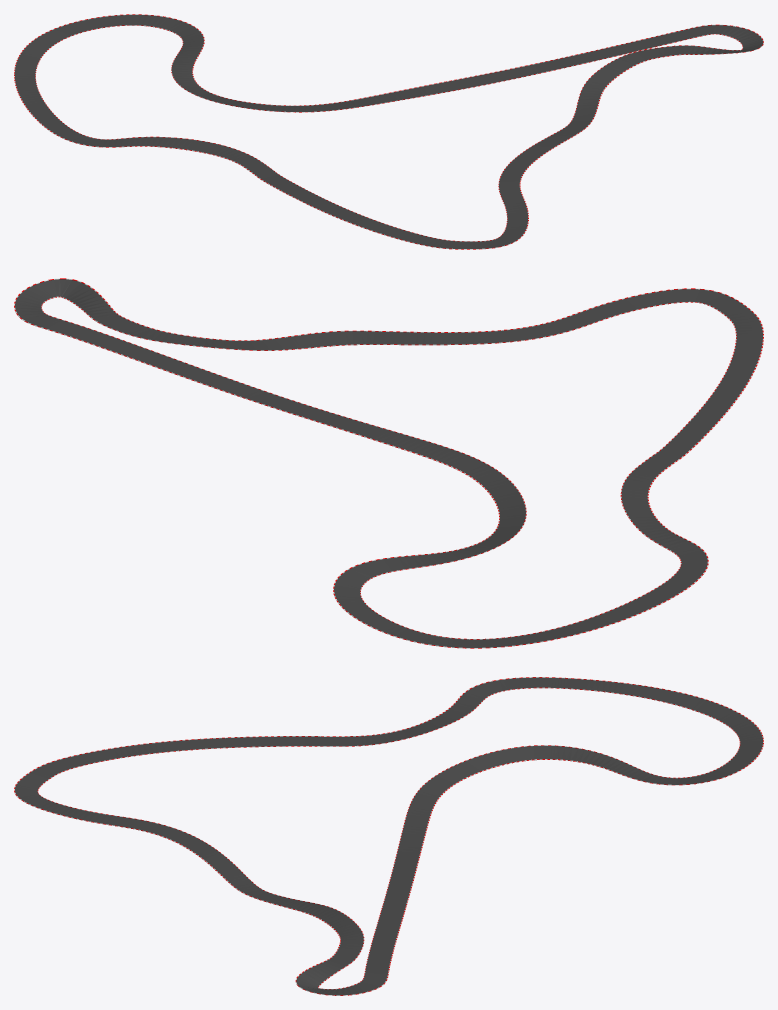
Rendered from roadsmall (1) 1.fbx.
3 views of the same model, one above another, from view 1: azimuth 30°, elevation 25°; view 2: azimuth 150°, elevation 25°; view 3: azimuth 270°, elevation 25° (orthographic). The views are drawn at different scales.
Parts seen in each view (by area): view 1: Plane; view 2: Plane; view 3: Plane.
Part boxes in pixels (x1,y1,x2,y2): Plane: (14, 14, 763, 249); Plane: (14, 278, 763, 648); Plane: (14, 677, 763, 995).
Size of the model in its own units: 64678 by 1645 by 61536.
